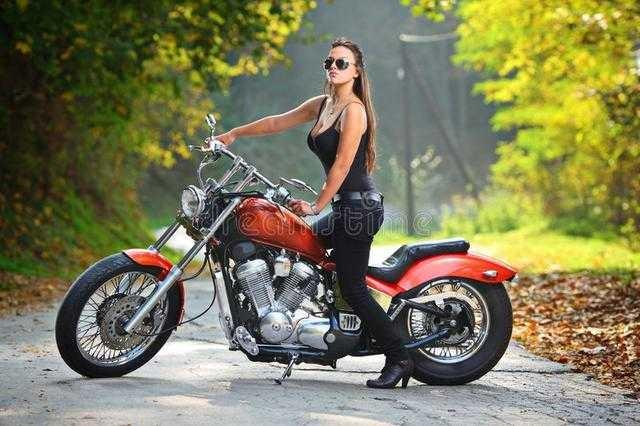motorbike: (54, 134, 529, 390)
